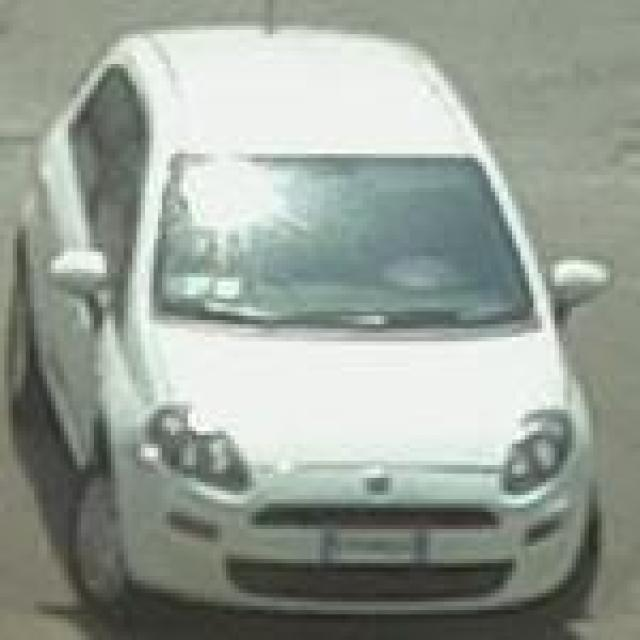cars-sUYr: (14, 23, 615, 637)
